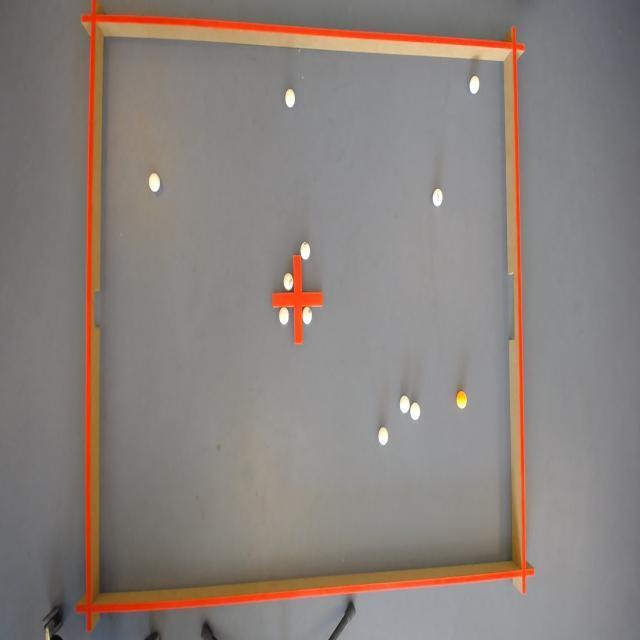orange: (454, 391, 466, 411)
white: (282, 87, 296, 110), (468, 75, 482, 97), (148, 170, 162, 192), (378, 426, 390, 446), (400, 394, 412, 414), (300, 241, 313, 259), (433, 188, 444, 208), (278, 306, 289, 325), (410, 401, 420, 420), (282, 270, 292, 289), (302, 306, 312, 324)
